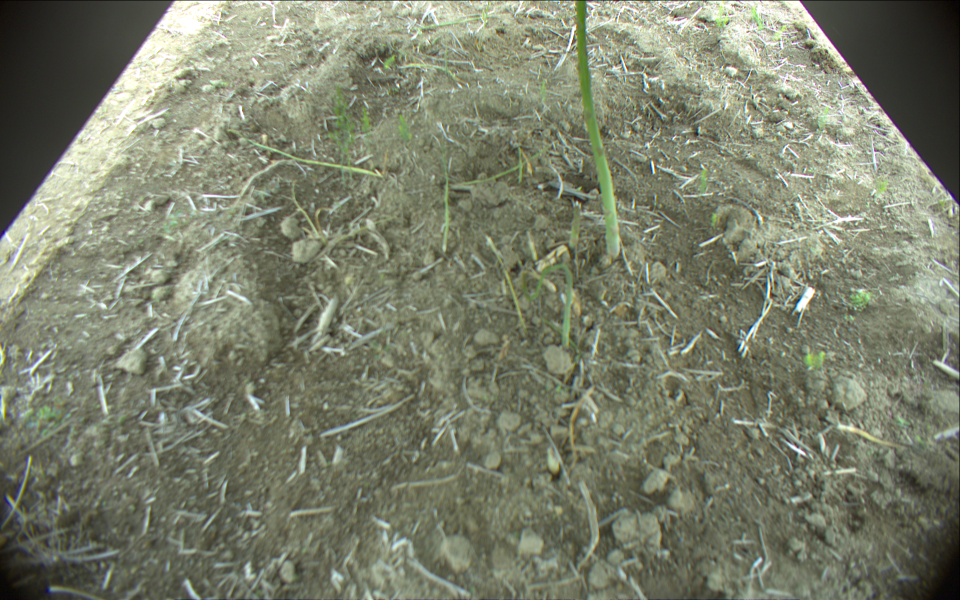aspa: (573, 1, 622, 255), (218, 124, 382, 178), (452, 142, 555, 190), (520, 260, 572, 350), (401, 11, 501, 30), (399, 60, 461, 82), (440, 156, 451, 251), (569, 206, 584, 254)
